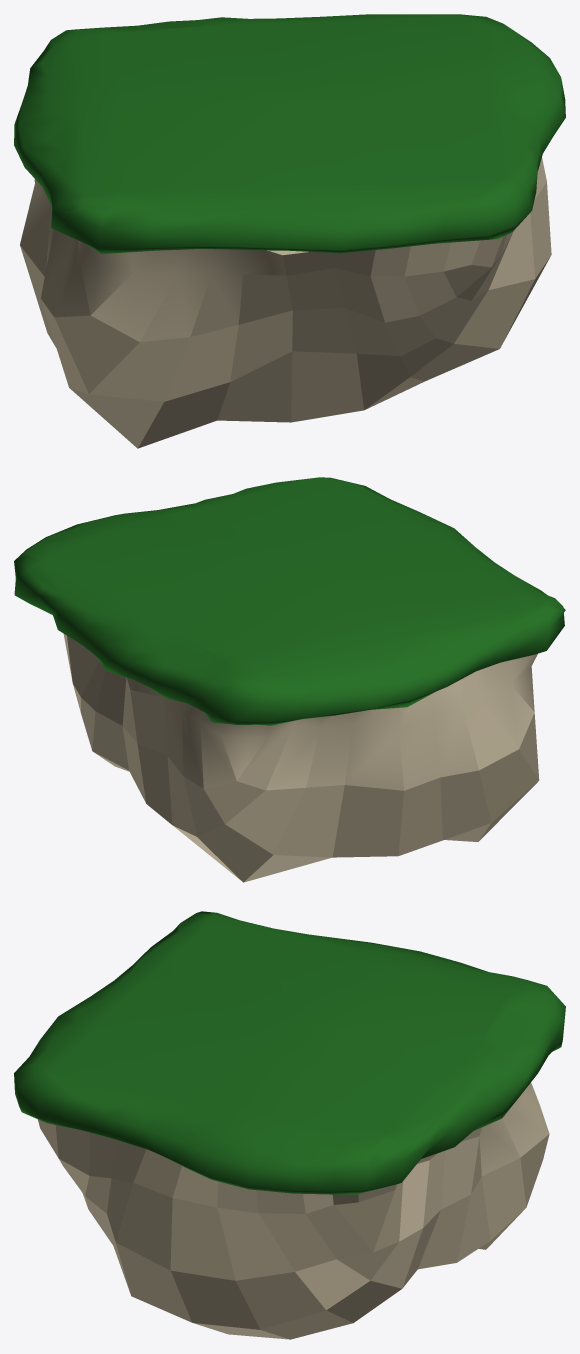
The model's file is SM_MiniIsland3.fbx.
3 renders of one model, top to bottom at view 1: azimuth 30°, elevation 25°; view 2: azimuth 150°, elevation 25°; view 3: azimuth 270°, elevation 25°, orthographic. The views are drawn at different scales.
Visible parts, largest first — view 1: SM_MiniIsland5; view 2: SM_MiniIsland5; view 3: SM_MiniIsland5.
Boxes of the visible parts, x1,y1,x2,y2 form: SM_MiniIsland5: (14,14,565,448); SM_MiniIsland5: (14,477,565,882); SM_MiniIsland5: (14,911,565,1339).
Bounding box in the file's own units: 9.72 × 5.07 × 9.06.
